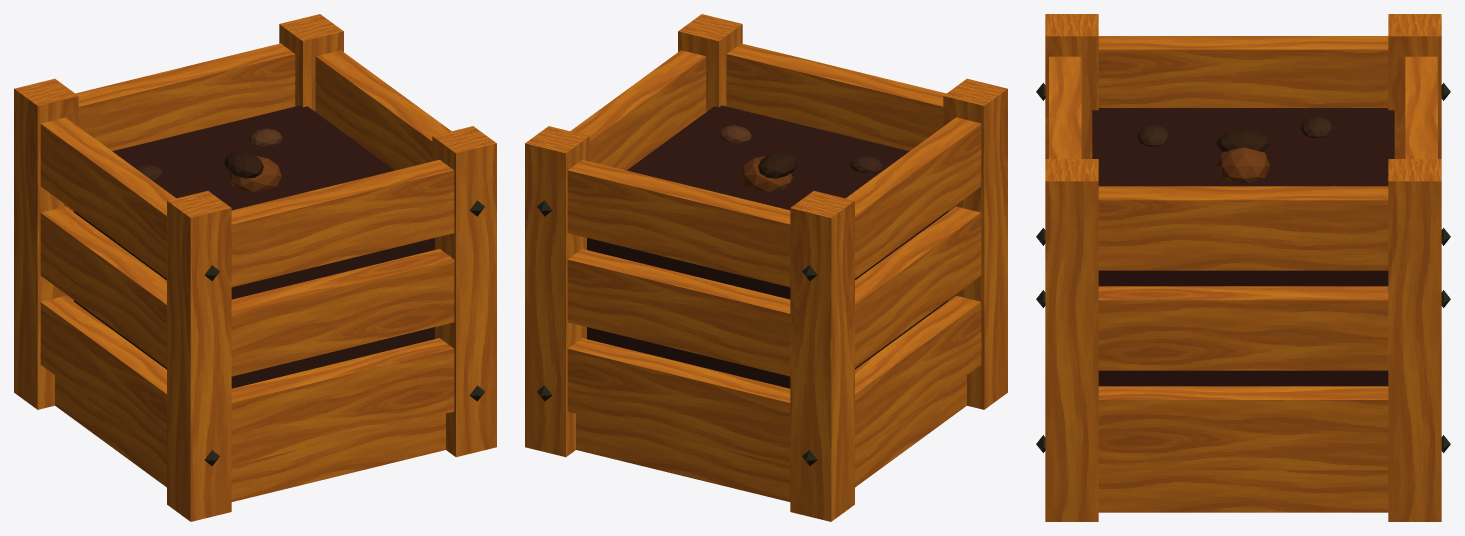
Rendered from nursery-seeded.obj.
3 views of the same model, side by side, from view 1: azimuth 30°, elevation 25°; view 2: azimuth 150°, elevation 25°; view 3: azimuth 270°, elevation 25° (orthographic). The views are drawn at different scales.
Parts seen in each view (by area): view 1: nursery-seeded; view 2: nursery-seeded; view 3: nursery-seeded.
Boxes of the visible parts, left/top/right/bottom form: nursery-seeded: left=14, top=14, right=496, bottom=521; nursery-seeded: left=525, top=14, right=1007, bottom=521; nursery-seeded: left=1036, top=14, right=1450, bottom=521.
Bounding box in the file's own units: 0.485 × 0.46 × 0.508.
Materials: 2 (2 with a texture image).
